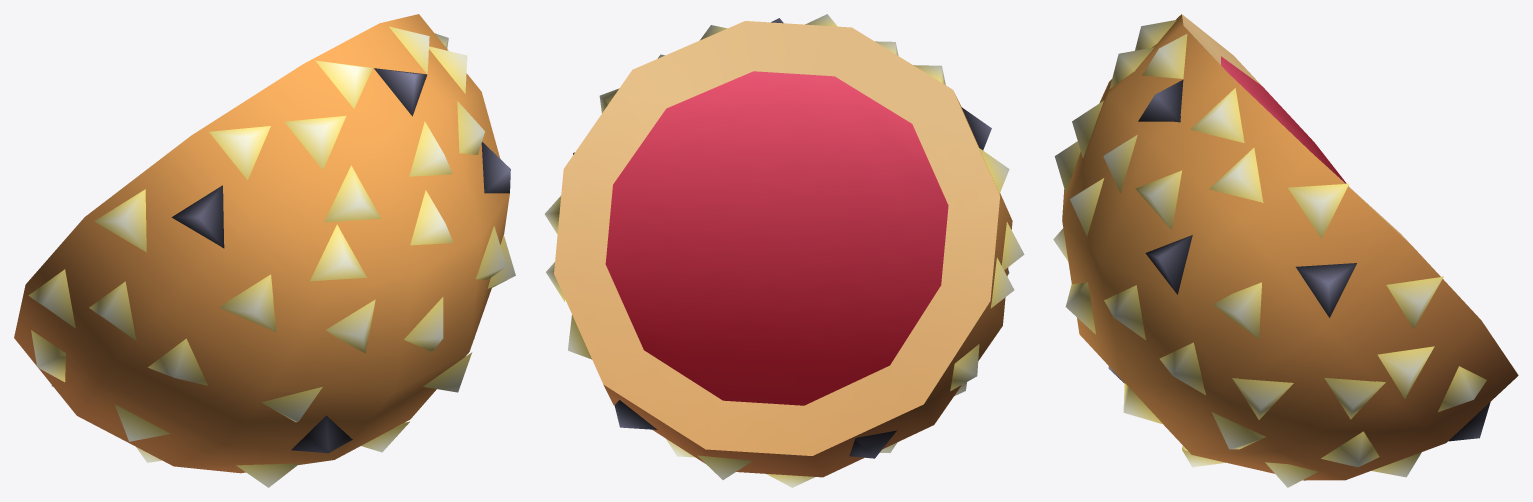
The model's file is m_SesameBall02_Cut02.fbx.
3 views of the same model, side by side, from view 1: azimuth 30°, elevation 25°; view 2: azimuth 150°, elevation 25°; view 3: azimuth 270°, elevation 25° (orthographic). The views are drawn at different scales.
Visible parts, largest first — view 1: m_SesameBall02_Cut02; view 2: m_SesameBall02_Cut02; view 3: m_SesameBall02_Cut02.
Part boxes in pixels (bbox=[...]): m_SesameBall02_Cut02: bbox=[14, 14, 515, 487]; m_SesameBall02_Cut02: bbox=[544, 14, 1024, 487]; m_SesameBall02_Cut02: bbox=[1053, 14, 1518, 487].
Size of the model in its own units: 6.35 by 5.91 by 5.66.
